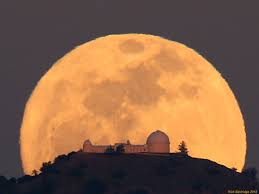moon: (18, 32, 247, 175)
